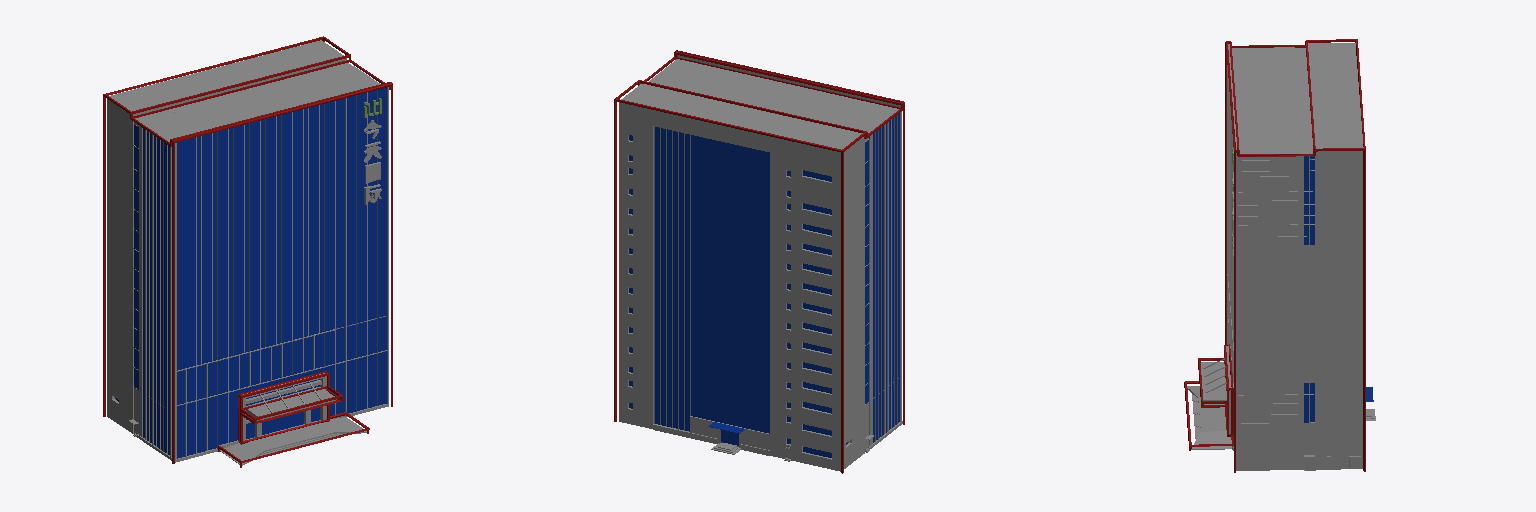
File: Bulid_BGL.obj
3 renders of one model, left to right at view 1: azimuth 30°, elevation 25°; view 2: azimuth 150°, elevation 25°; view 3: azimuth 270°, elevation 25°, orthographic.
Visible parts, largest first — view 1: Bulid_BGL; view 2: Bulid_BGL; view 3: Bulid_BGL.
Part boxes in pixels (left/top/right/bottom): Bulid_BGL: left=103, top=36, right=392, bottom=467; Bulid_BGL: left=614, top=50, right=904, bottom=473; Bulid_BGL: left=1184, top=39, right=1375, bottom=472.
Size of the model in its own units: 53.78 by 72.37 by 38.94.